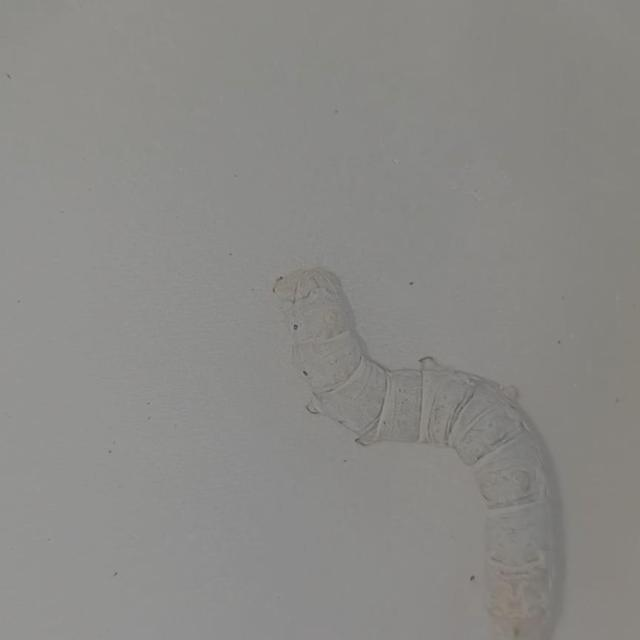Healthy: (266, 257, 578, 640)
